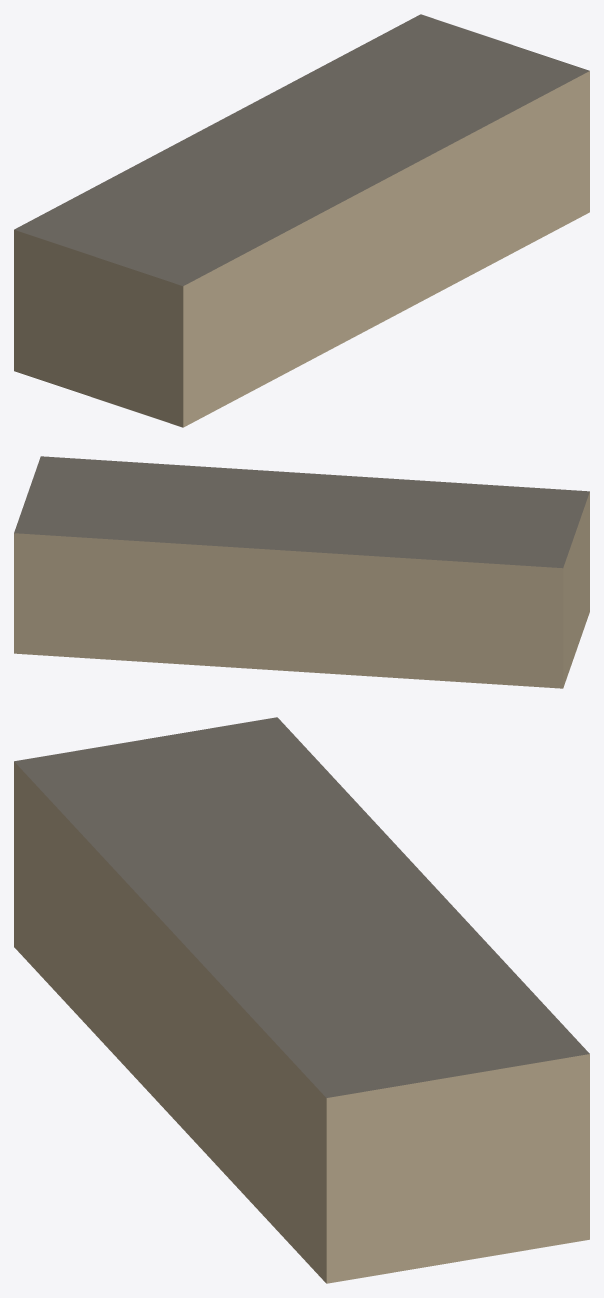
The picture shows the model from 3 angles, top to bottom: view 1: azimuth 30°, elevation 25°; view 2: azimuth 150°, elevation 25°; view 3: azimuth 270°, elevation 25°; orthographic projection. The views are drawn at different scales.
Visible parts, largest first — view 1: HP-w731233905; view 2: HP-w731233905; view 3: HP-w731233905.
Part boxes in pixels (bbox=[...]): HP-w731233905: bbox=[14, 14, 589, 427]; HP-w731233905: bbox=[14, 456, 589, 688]; HP-w731233905: bbox=[14, 717, 589, 1283].
Size of the model in its own units: 58.08 by 13.2 by 37.11.
